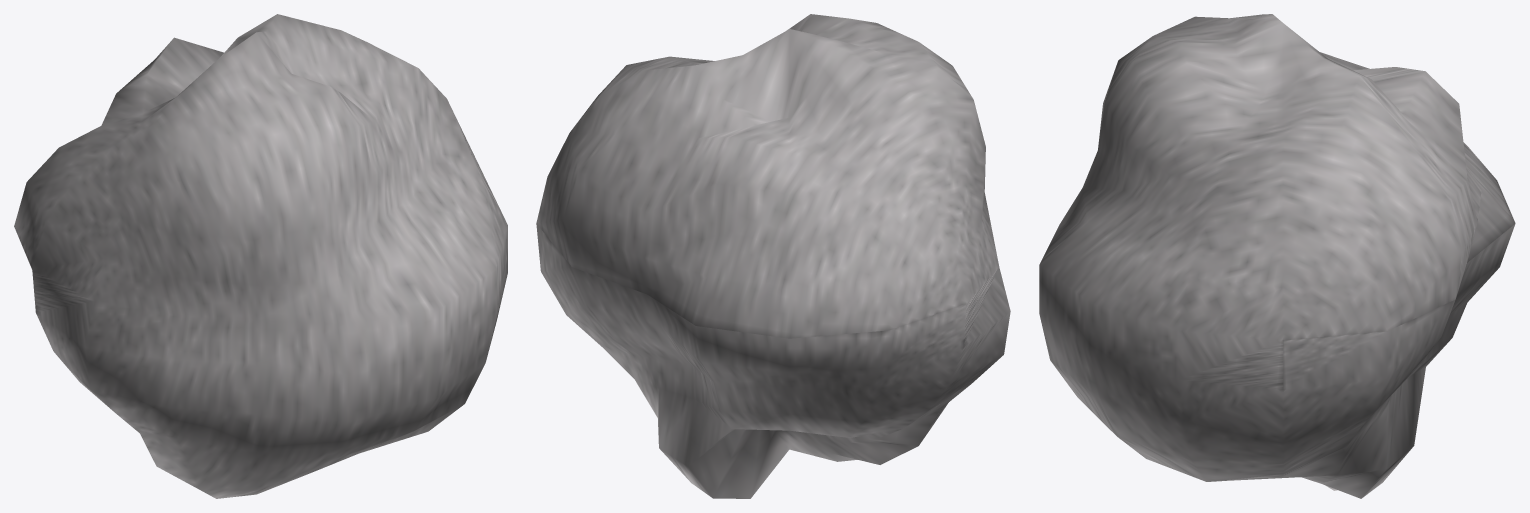
The model's file is asteroid3.fbx.
3 views of the same model, side by side, from view 1: azimuth 30°, elevation 25°; view 2: azimuth 150°, elevation 25°; view 3: azimuth 270°, elevation 25° (orthographic). The views are drawn at different scales.
Parts seen in each view (by area): view 1: meteor3; view 2: meteor3; view 3: meteor3.
Part boxes in pixels (bbox=[...]): meteor3: bbox=[14, 14, 507, 498]; meteor3: bbox=[536, 14, 1010, 498]; meteor3: bbox=[1039, 14, 1515, 498].
Size of the model in its own units: 5.14 by 5.3 by 4.96.
1 material, 1 textured.
